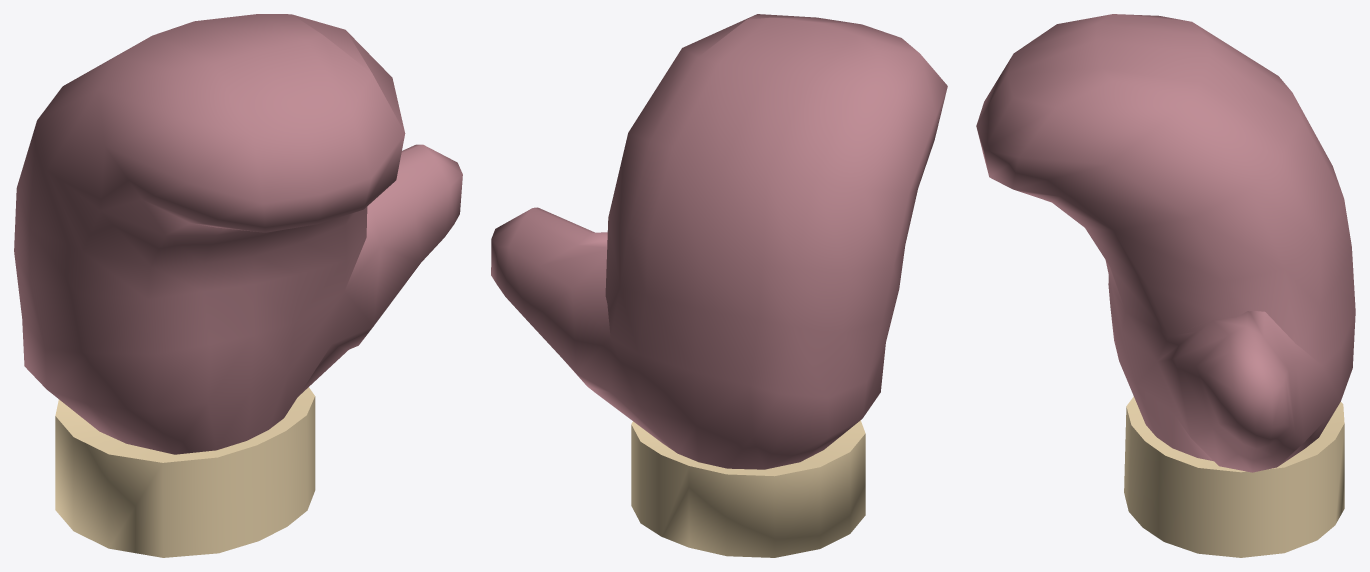
File: Boxer_3.fbx
The picture shows the model from 3 angles, left to right: view 1: azimuth 30°, elevation 25°; view 2: azimuth 150°, elevation 25°; view 3: azimuth 270°, elevation 25°; orthographic projection. The views are drawn at different scales.
Parts seen in each view (by area): view 1: Boxer_3; view 2: Boxer_3; view 3: Boxer_3.
Boxes of the visible parts, bbox=[...] form: Boxer_3: bbox=[14, 14, 462, 557]; Boxer_3: bbox=[491, 14, 947, 557]; Boxer_3: bbox=[976, 14, 1355, 557].
Size of the model in its own units: 0.2451 by 0.2681 by 0.1993.
